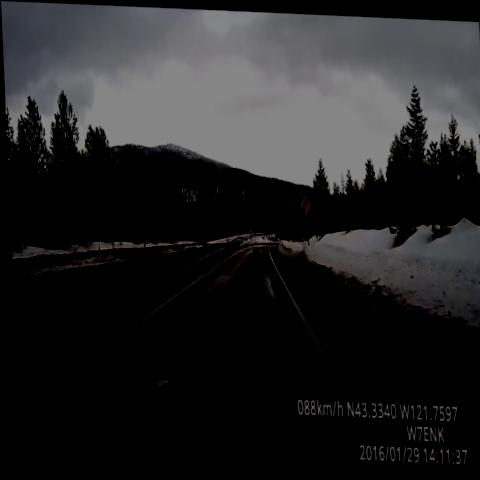pothole: (65, 378, 123, 429), (112, 379, 156, 430)
